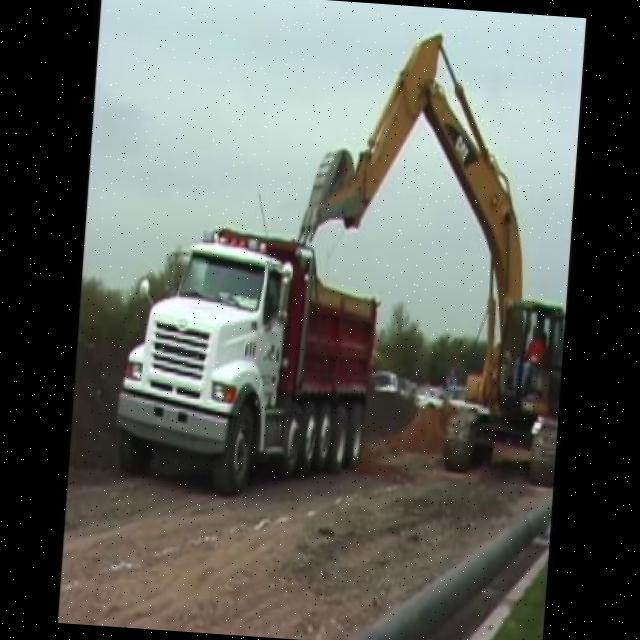Dump Truck: (113, 204, 387, 499)
Excavator: (280, 22, 584, 507)
